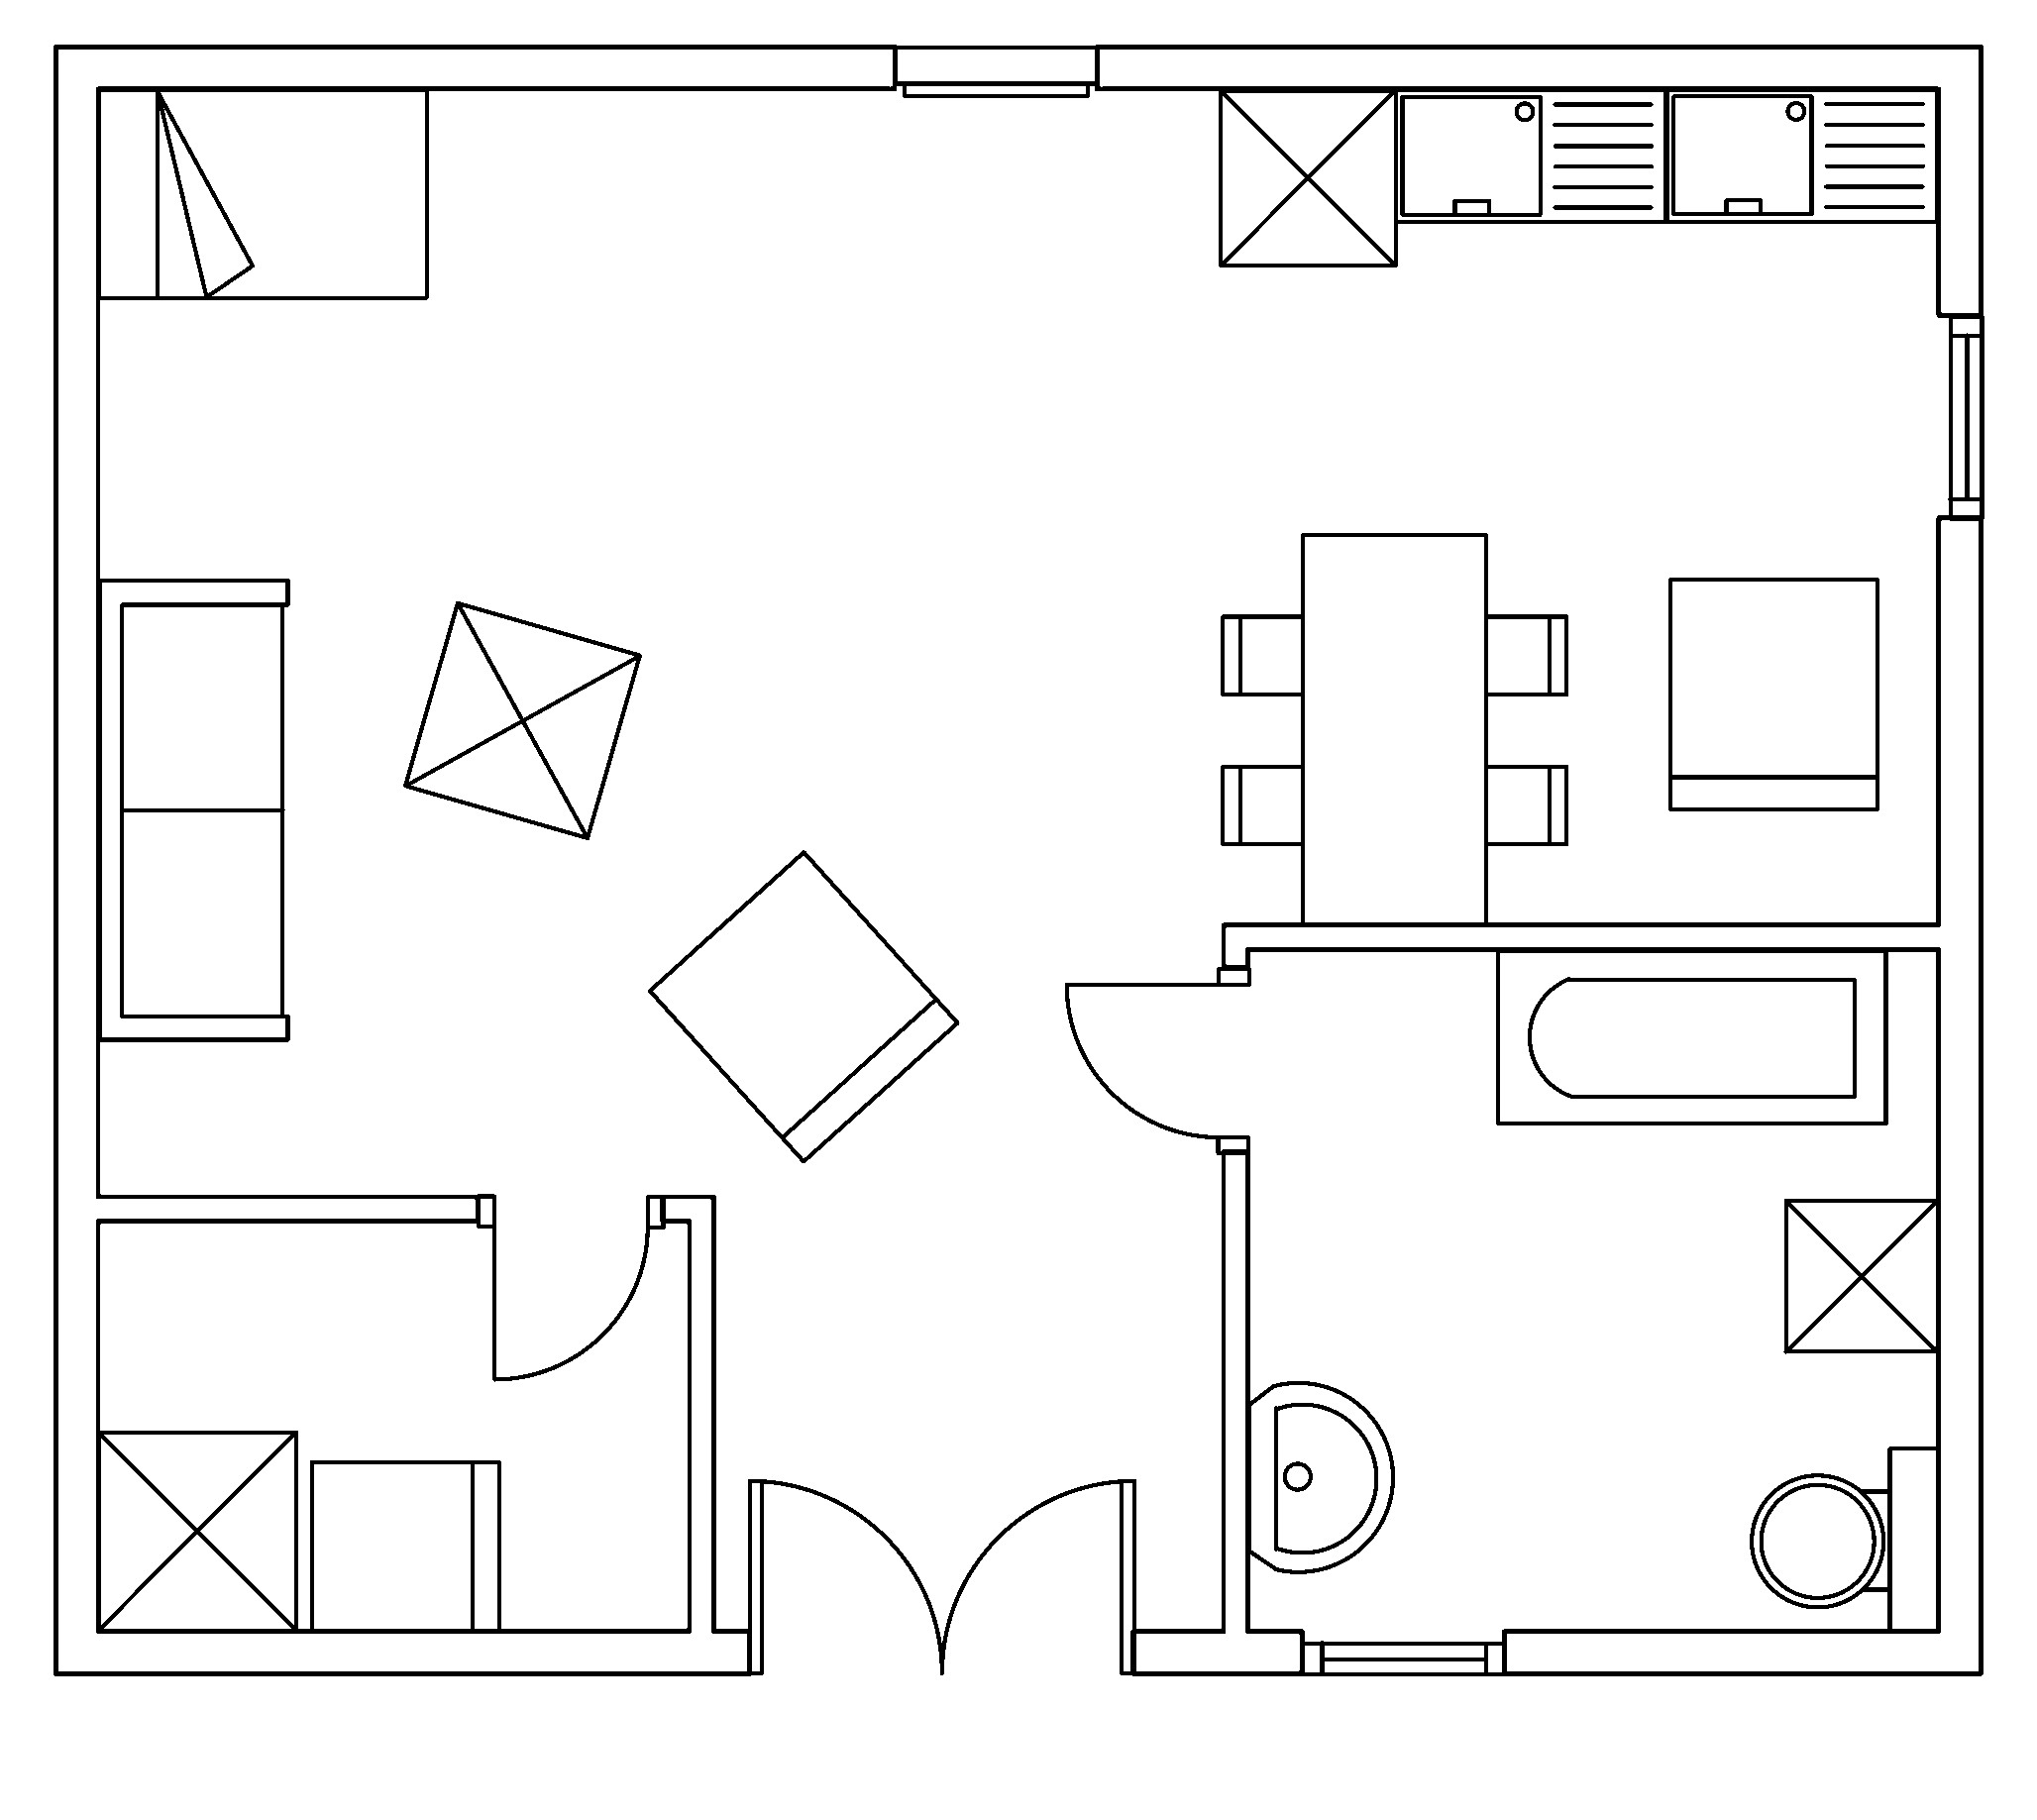bed: (95, 86, 428, 300)
coffee_table: (402, 599, 643, 840), (95, 1428, 299, 1632), (1217, 86, 1398, 267), (1781, 1196, 1940, 1354)
dining_table: (1219, 531, 1568, 926)
large_sink: (1749, 1444, 1940, 1632)
large_sofa: (95, 576, 290, 1042)
sink: (1663, 86, 1940, 223), (1393, 86, 1668, 223)
small_sink: (1245, 1381, 1394, 1572)
small_sofa: (646, 849, 961, 1163), (1666, 576, 1879, 812), (307, 1458, 500, 1632)
tub: (1494, 947, 1888, 1126)
